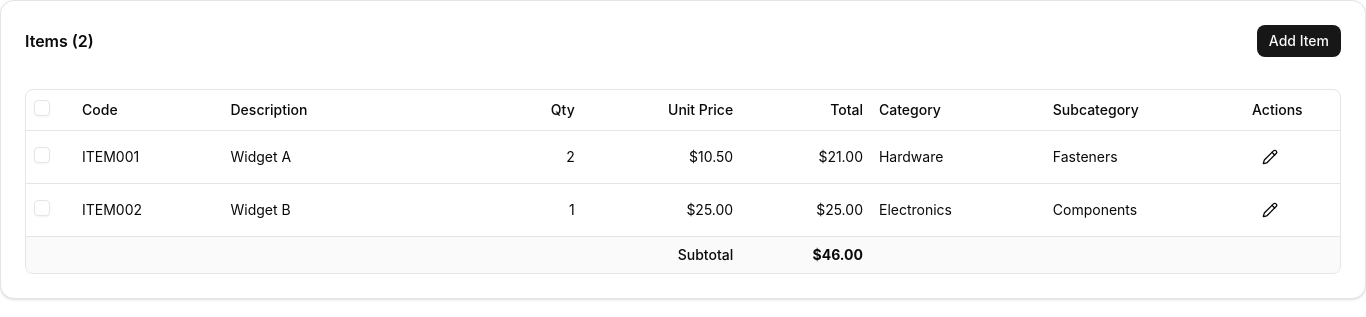
it: ReceiptItemsCard › select-all checkbox selects and deselects all items
The width and height of the screenshot is (1366, 317).
Click the checkbox named "Select all items" at [42, 108], box [34, 100, 50, 116]
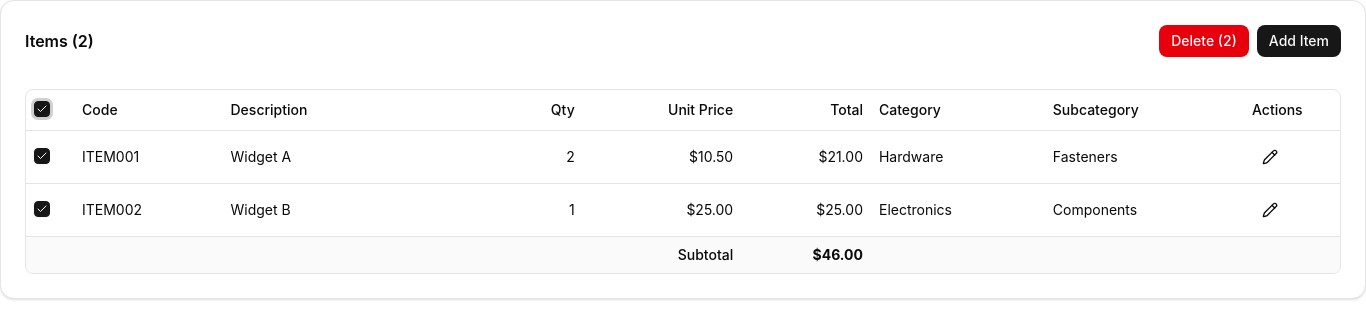
Expected: the checkbox named "Select all items" is checked
Expected: the checkbox named "Select Widget A item" is checked, [34, 148, 50, 164]
Expected: the checkbox named "Select Widget B item" is checked, [34, 200, 50, 216]
Click the checkbox named "Select all items" at [42, 109], box [34, 101, 50, 117]
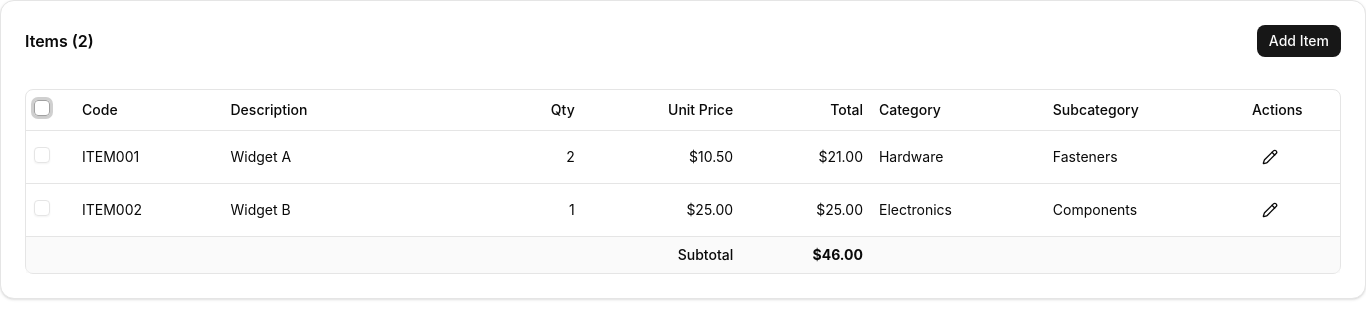
Expected: the checkbox named "Select all items" is not checked, [34, 100, 50, 116]
Expected: the checkbox named "Select Widget A item" is not checked, [34, 146, 50, 162]
Expected: the checkbox named "Select Widget B item" is not checked, [34, 200, 50, 216]
